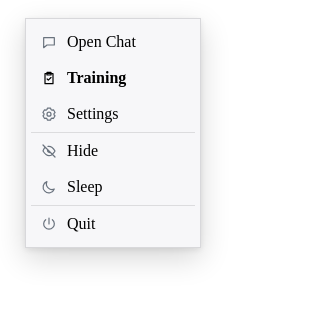
Test: AvatarMenuView › stays open with an error when hiding fails
The image size is (320, 328).
Step 1. Click the menu item "Hide" → (113, 151), box [31, 133, 195, 169]
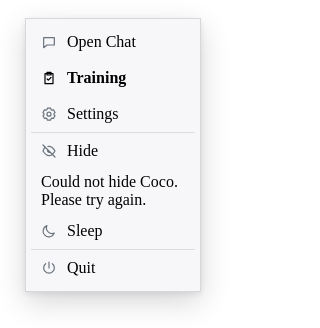
Expected: the message shows "Could not hide Coco", [41, 173, 178, 208]
